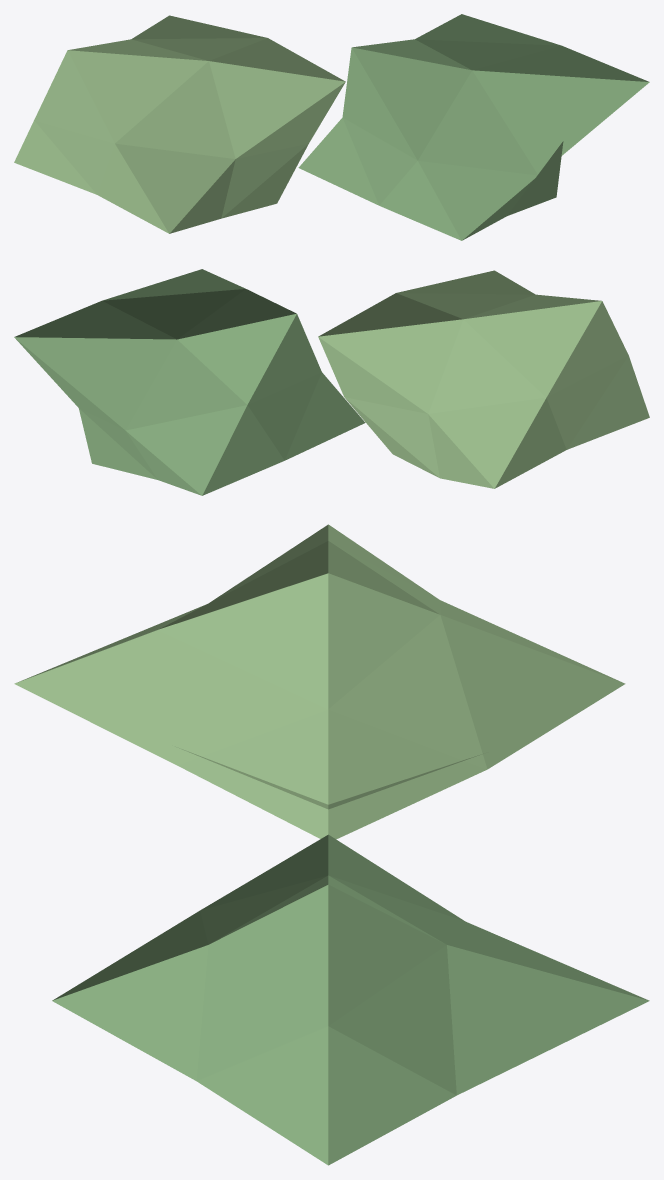
File: shrub_v39.glb
3 views of the same model, one above another, from view 1: azimuth 30°, elevation 25°; view 2: azimuth 150°, elevation 25°; view 3: azimuth 270°, elevation 25° (orthographic). The views are drawn at different scales.
Visible parts, largest first — view 1: lod0; view 2: lod0; view 3: lod0.
Part boxes in pixels (<box>): lod0: <box>14,14,649,240</box>; lod0: <box>14,269,649,495</box>; lod0: <box>14,524,649,1165</box>.
Size of what is drawn, in the model's own units: 1.78 by 0.7956 by 1.06.
